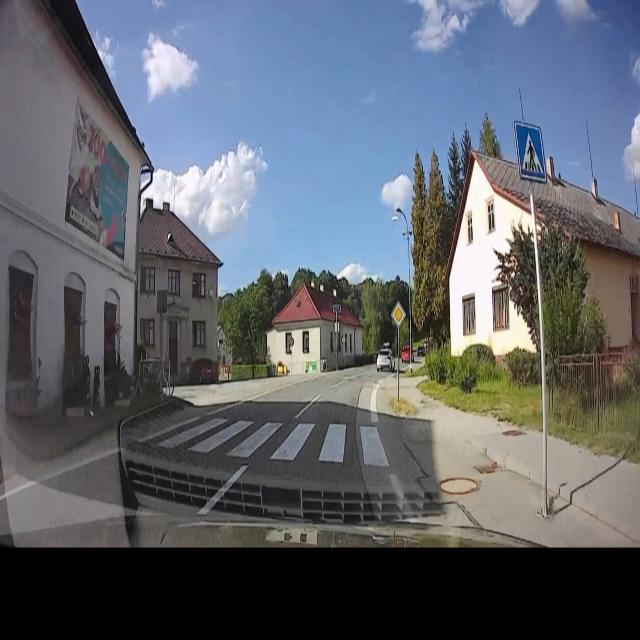Pedestrian crosswalk: (154, 409, 396, 472), (513, 116, 548, 184)
